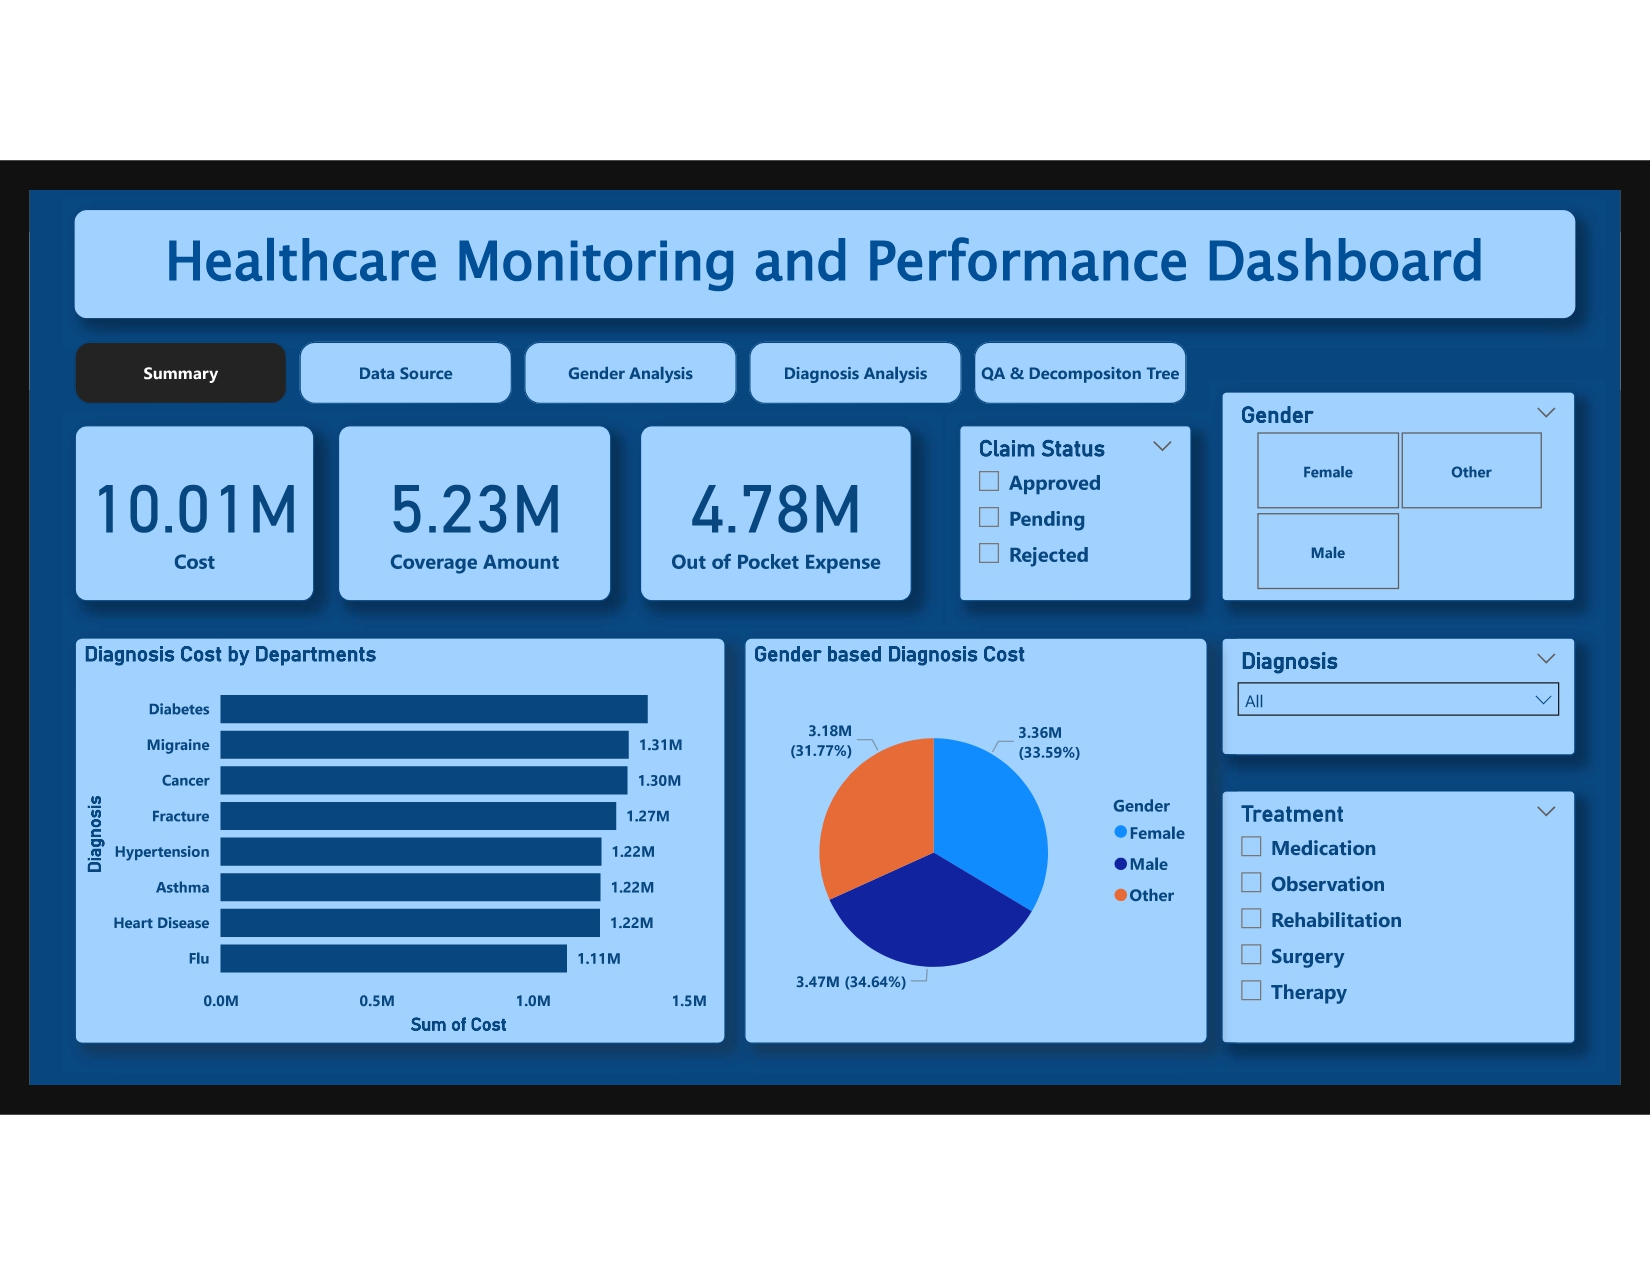

Layout of this report page (visuals, bound fields, positions):
{"tool":"powerbi","page":{"name":"Summary","canvas":[1280,720],"ordinal":0},"visuals":[{"type":"textbox","box":[35.7,16.4,1208.4,86.2],"z":0},{"type":"card","fields":{"Values":["Sum(Health_Care_Project (real time).Cost)"]},"box":[35.7,188.8,193.2,142.7],"z":1000},{"type":"card","fields":{"Values":["Sum(Health_Care_Project (real time).Coverage Amount)"]},"box":[248.2,188.8,220,142.7],"z":2000},{"type":"card","fields":{"Values":["Sum(Health_Care_Project (real time).Out ofpocket exp)"]},"box":[490.5,188.8,220,142.7],"z":3000},{"type":"slicer","fields":{"Values":["Health_Care_Project (real time).Diagnosis"]},"box":[958.7,359.7,285.4,95.1],"z":4000},{"type":"slicer","fields":{"Values":["Health_Care_Project (real time).Claim Status"]},"box":[747.7,188.8,187.3,142.7],"z":5000},{"type":"slicer","fields":{"Values":["Health_Care_Project (real time).Gender"]},"box":[958.7,162,285.4,169.4],"z":6000},{"type":"slicer","fields":{"Values":["Health_Care_Project (real time).Treatment"]},"box":[958.7,483.1,285.4,203.6],"z":7000},{"type":"clusteredBarChart","title":"Diagnosis Cost by Departments","fields":{"Category":["Health_Care_Project (real time).Diagnosis"],"Y":["Sum(Health_Care_Project (real time).Cost)"]},"box":[35.7,359.7,524.7,327],"z":8000},{"type":"pieChart","title":"Gender based Diagnosis Cost ","fields":{"Y":["Sum(Health_Care_Project (real time).Cost)"],"Series":["Health_Care_Project (real time).Gender"]},"box":[575.2,359.7,373.1,327],"z":9000},{"type":"pageNavigator","box":[35.7,121.9,899.3,50.5],"z":9001}]}

Visuals, with their boxes on the page's 1280x720 design canvas (x1, y1, x2, y2). These are canvas units, not pixel positions in the 1650x1275 screenshot, which may show the page scaled, cropped or inside an application window:
textbox: detection(36, 16, 1244, 103)
card - Sum(Health_Care_Project (real time).Cost): detection(36, 189, 229, 332)
card - Sum(Health_Care_Project (real time).Coverage Amount): detection(248, 189, 468, 332)
card - Sum(Health_Care_Project (real time).Out ofpocket exp): detection(490, 189, 710, 332)
slicer - Health_Care_Project (real time).Diagnosis: detection(959, 360, 1244, 455)
slicer - Health_Care_Project (real time).Claim Status: detection(748, 189, 935, 332)
slicer - Health_Care_Project (real time).Gender: detection(959, 162, 1244, 331)
slicer - Health_Care_Project (real time).Treatment: detection(959, 483, 1244, 687)
"Diagnosis Cost by Departments" clusteredBarChart: detection(36, 360, 560, 687)
"Gender based Diagnosis Cost " pieChart: detection(575, 360, 948, 687)
pageNavigator: detection(36, 122, 935, 172)
